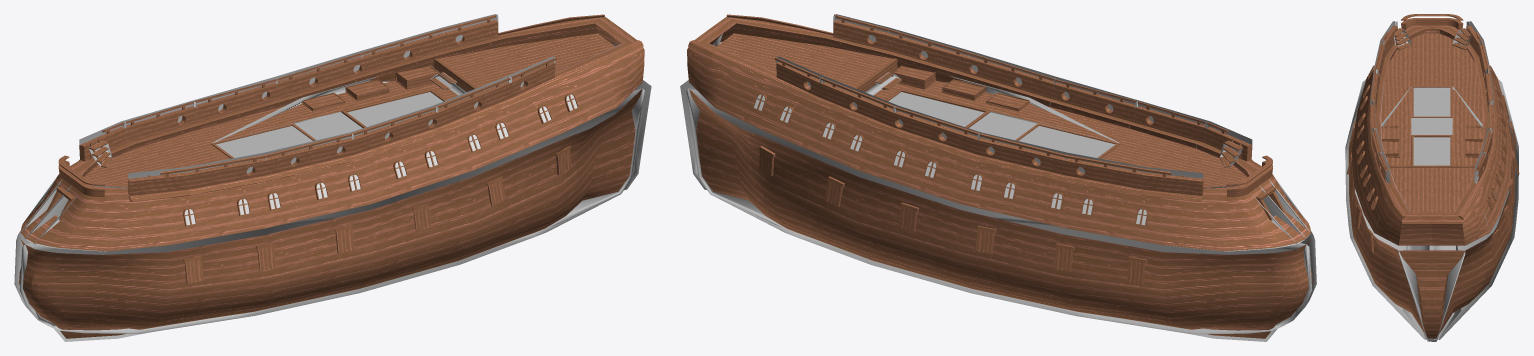
The model's file is SM_Ship_Part_04.gltf.
3 renders of one model, left to right at view 1: azimuth 30°, elevation 25°; view 2: azimuth 150°, elevation 25°; view 3: azimuth 270°, elevation 25°, orthographic. The views are drawn at different scales.
Visible parts, largest first — view 1: SM_Ship_Part_04_LOD0, SM_Ship_Part_04_ConvexHulls; view 2: SM_Ship_Part_04_LOD0, SM_Ship_Part_04_ConvexHulls; view 3: SM_Ship_Part_04_LOD0, SM_Ship_Part_04_ConvexHulls.
Boxes of the visible parts, x1,y1,x2,y2 form: SM_Ship_Part_04_LOD0: (19,14,644,338); SM_Ship_Part_04_ConvexHulls: (14,14,651,341); SM_Ship_Part_04_LOD0: (687,14,1312,338); SM_Ship_Part_04_ConvexHulls: (680,14,1316,341); SM_Ship_Part_04_LOD0: (1346,14,1519,338); SM_Ship_Part_04_ConvexHulls: (1345,21,1518,341).
Size of what is drawn, in the model's own units: 38.26 by 12.43 by 11.94.
5 materials, 3 textured.
